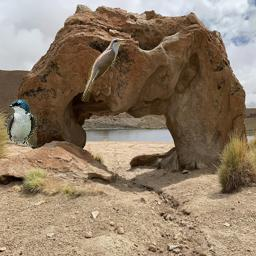Cuckoo: (80, 38, 126, 102)
Swallow: (6, 99, 37, 147)
